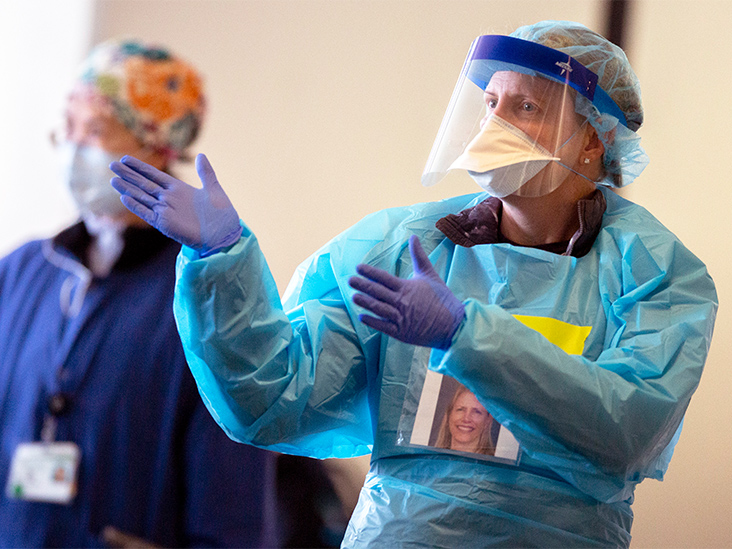Coverall: (301, 194, 704, 549)
Gloves: (107, 148, 244, 258), (348, 235, 462, 356)
with_mask: (462, 91, 553, 196)
